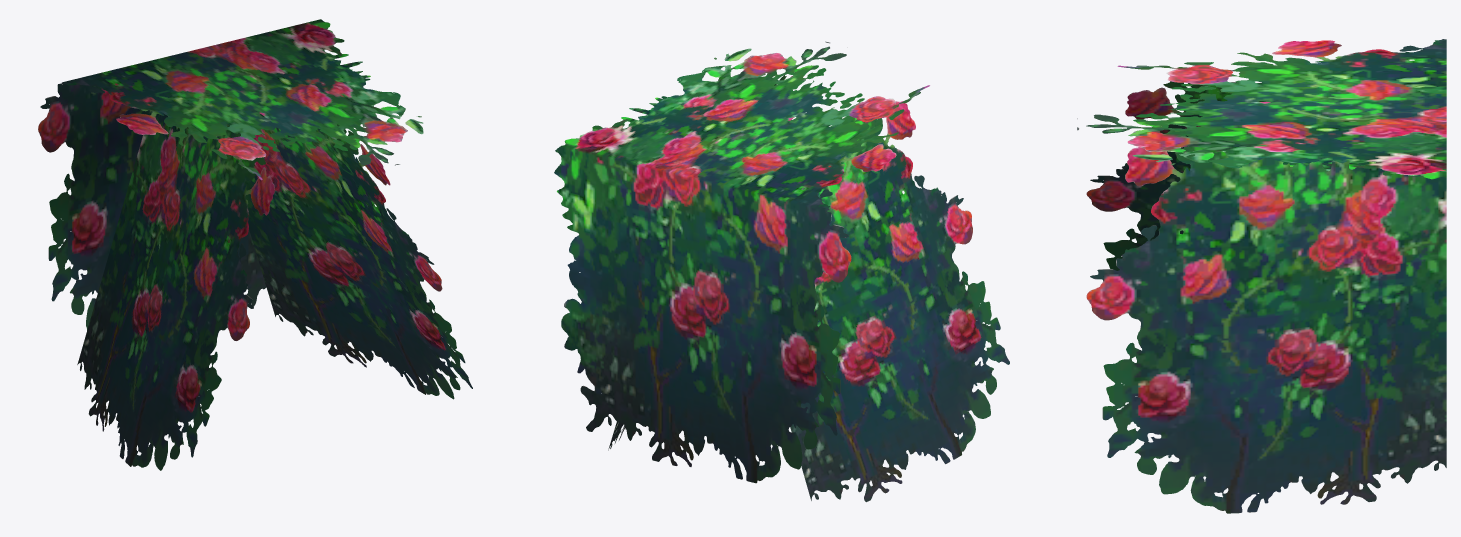
File: Gimmick_enemy001.fbx
3 renders of one model, left to right at view 1: azimuth 30°, elevation 25°; view 2: azimuth 150°, elevation 25°; view 3: azimuth 270°, elevation 25°, orthographic. The views are drawn at different scales.
Parts seen in each view (by area): view 1: gimmick_enemy01; view 2: gimmick_enemy01; view 3: gimmick_enemy01.
Part boxes in pixels (bbox=[...]): gimmick_enemy01: bbox=[38, 19, 472, 470]; gimmick_enemy01: bbox=[554, 41, 1009, 502]; gimmick_enemy01: bbox=[1077, 39, 1446, 513].
Bounding box in the file's own units: 1.69 × 1.51 × 1.5.
